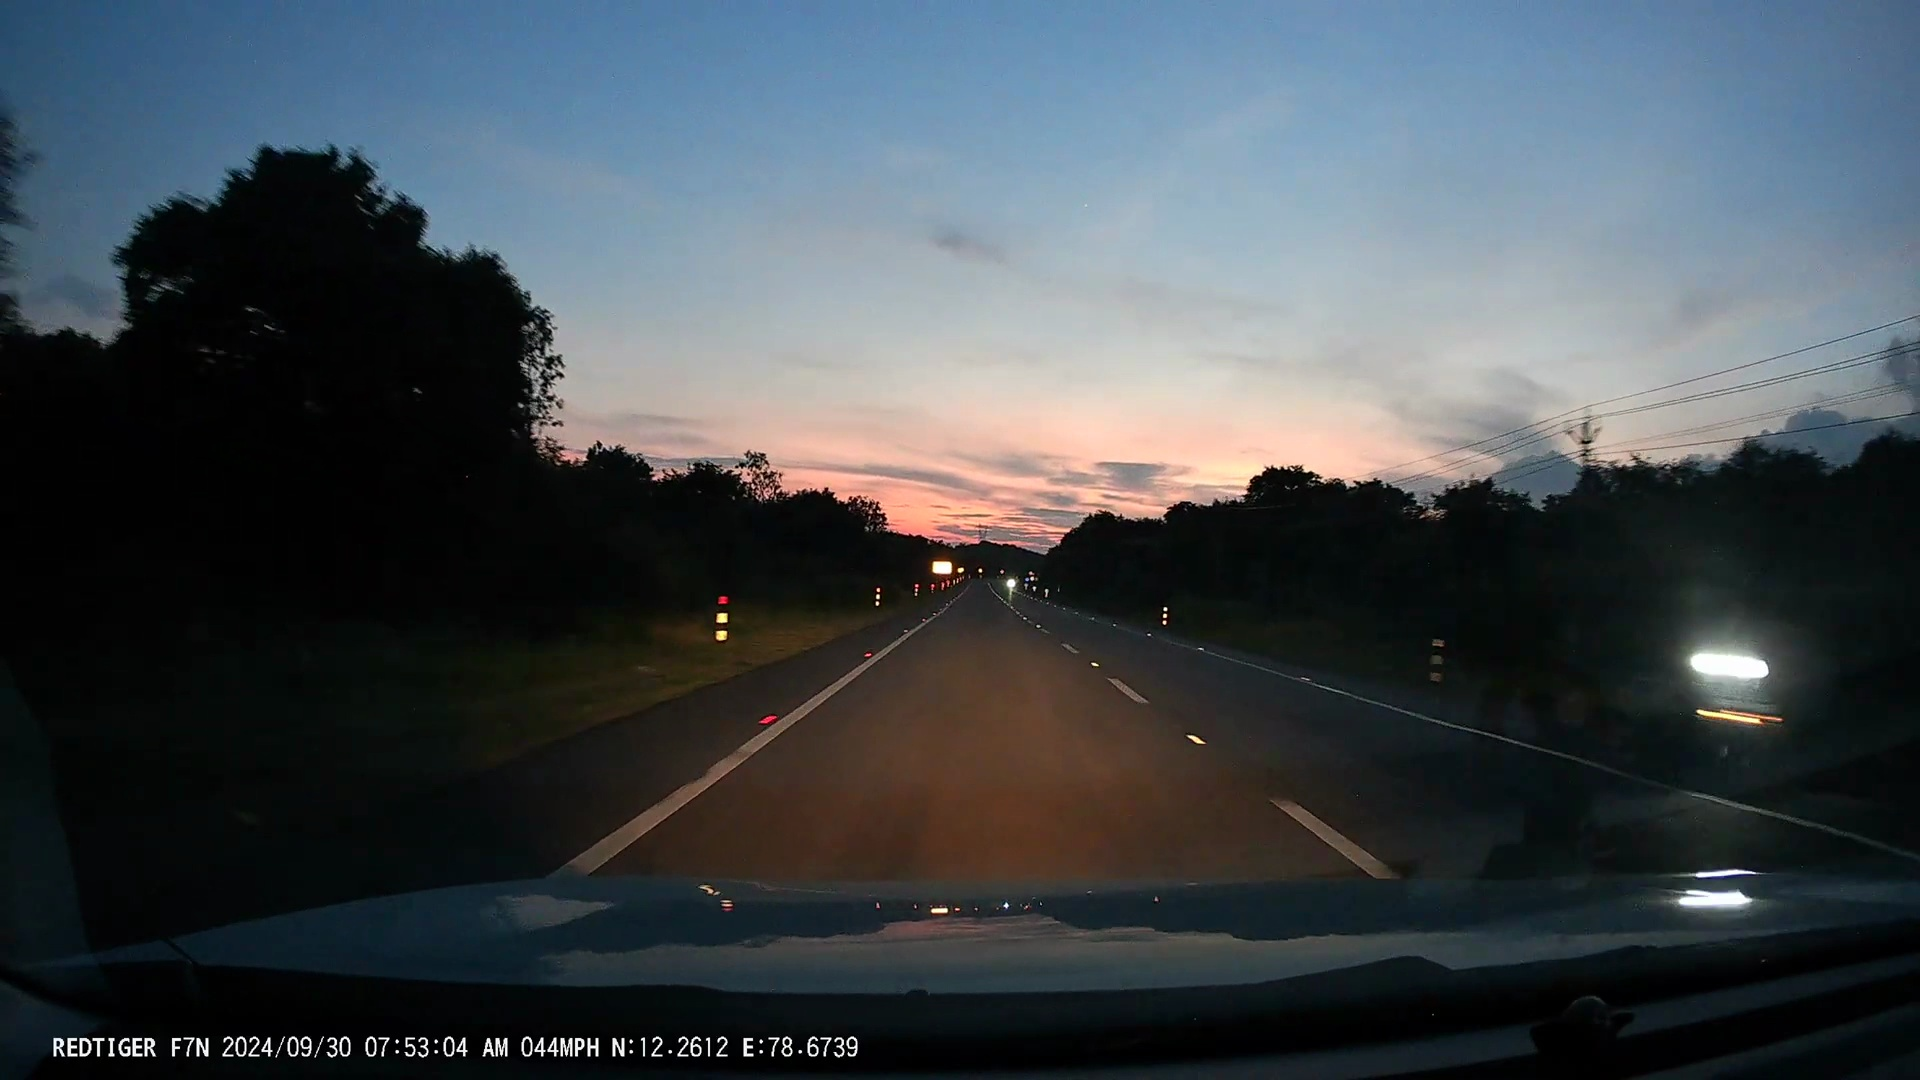headlight: (1005, 579, 1018, 589)
two wheeler: (1004, 574, 1019, 595)
